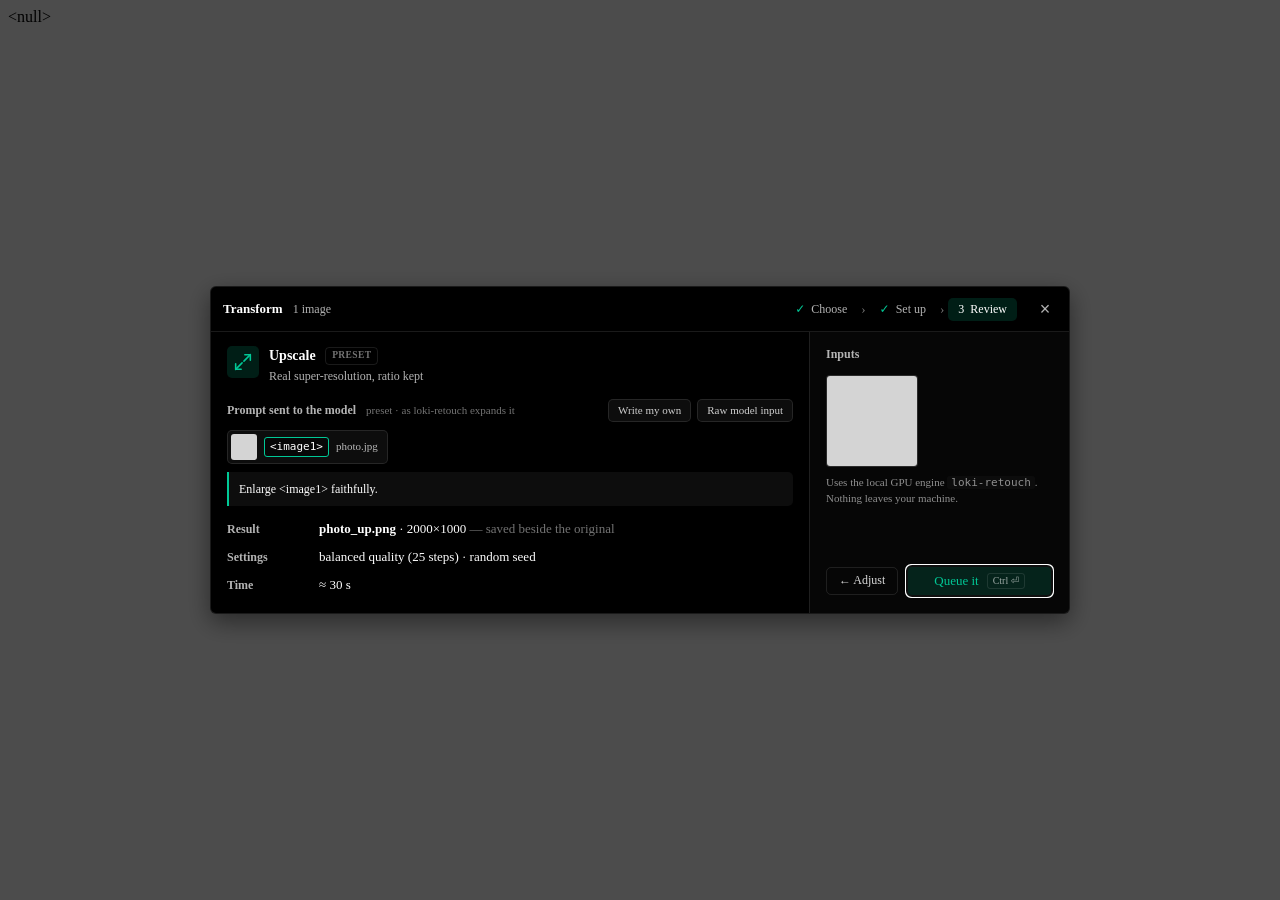
TransformFlowView: references and the full prompt › review: shows the prompt the engine expands, and the raw model input on request
The width and height of the screenshot is (1280, 900).
Check: the text "Enlarge <image1> faithfully." is shown, box [227,472,793,506]
Check: the text "preset · as loki-retouch expands it" is shown, box [366,403,515,418]
What coordinates should you click on to do the following:
click the button "Raw model input"
I would click on:
 (745, 410)
Its box is [697,399,793,422].
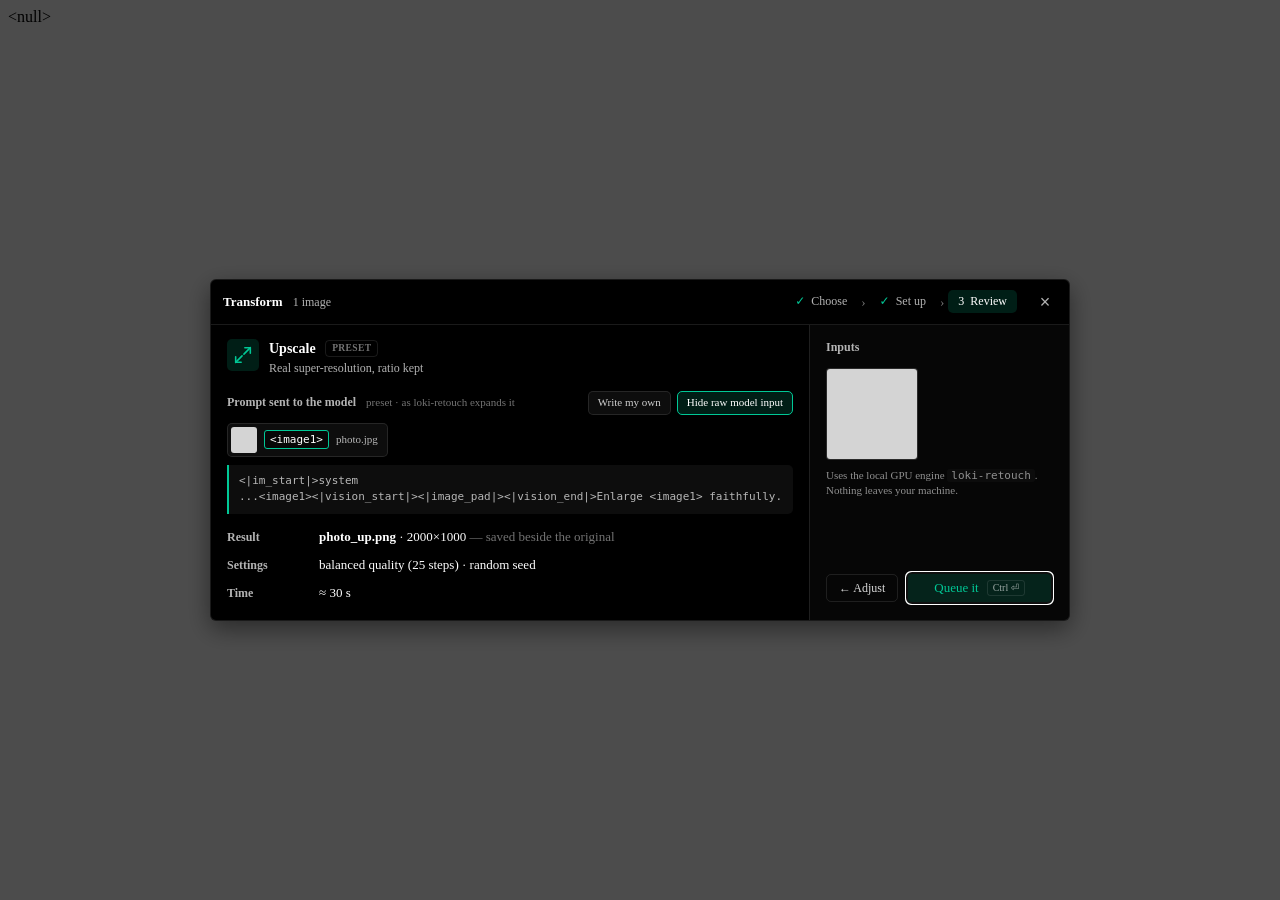
Check: the text "<|vision_start|>" is shown, box [239,474,782,503]
